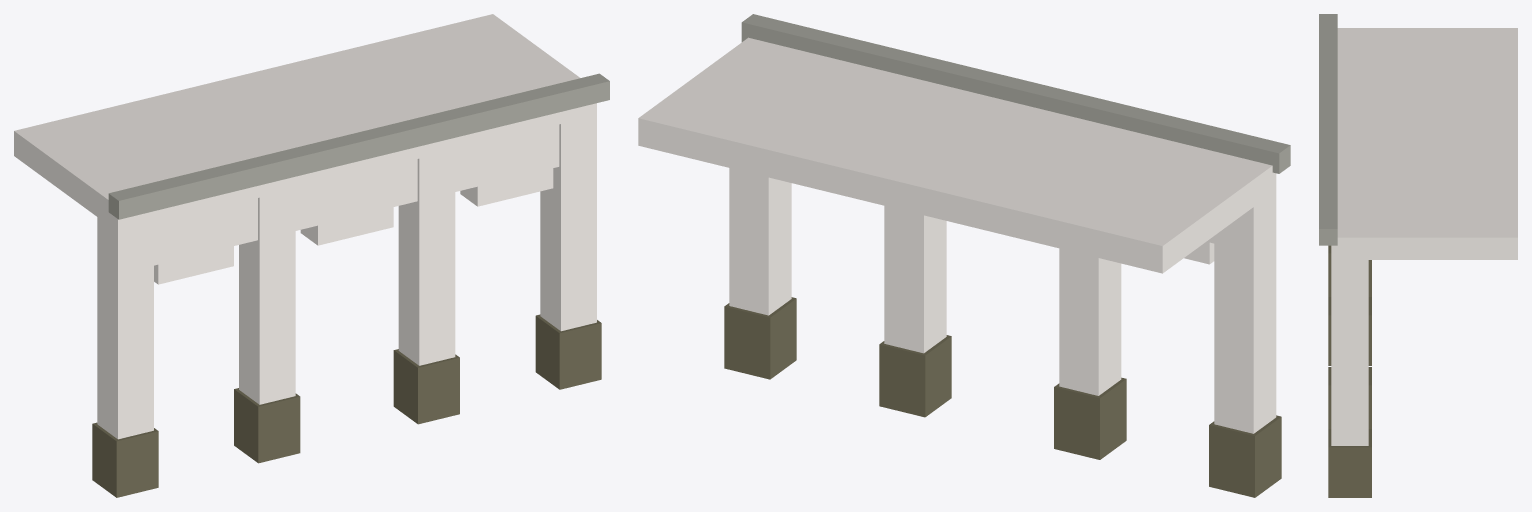
Rendered from SM_KitRemate_v4_LOD0.fbx.
3 renders of one model, left to right at view 1: azimuth 30°, elevation 25°; view 2: azimuth 150°, elevation 25°; view 3: azimuth 270°, elevation 25°, orthographic. The views are drawn at different scales.
Parts seen in each view (by area): view 1: SM_bloques.kit_remate_v4_LOD0; view 2: SM_bloques.kit_remate_v4_LOD0; view 3: SM_bloques.kit_remate_v4_LOD0.
Part boxes in pixels (<box>): SM_bloques.kit_remate_v4_LOD0: <box>14,14,609,497</box>; SM_bloques.kit_remate_v4_LOD0: <box>638,14,1290,497</box>; SM_bloques.kit_remate_v4_LOD0: <box>1319,14,1517,497</box>.
Size of the model in its own units: 8.18 by 4.8 by 3.2.
